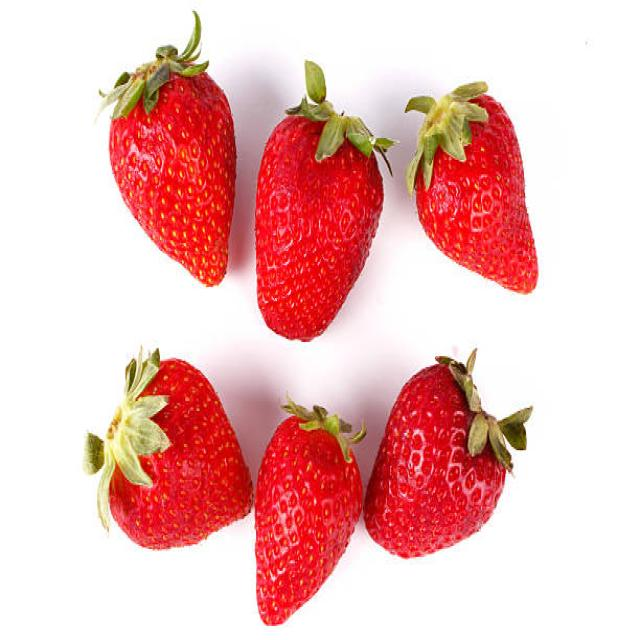Healthy Fruit: (253, 115, 384, 342), (109, 356, 255, 553), (364, 364, 507, 559), (108, 73, 236, 287), (416, 94, 539, 292), (252, 415, 364, 626)
